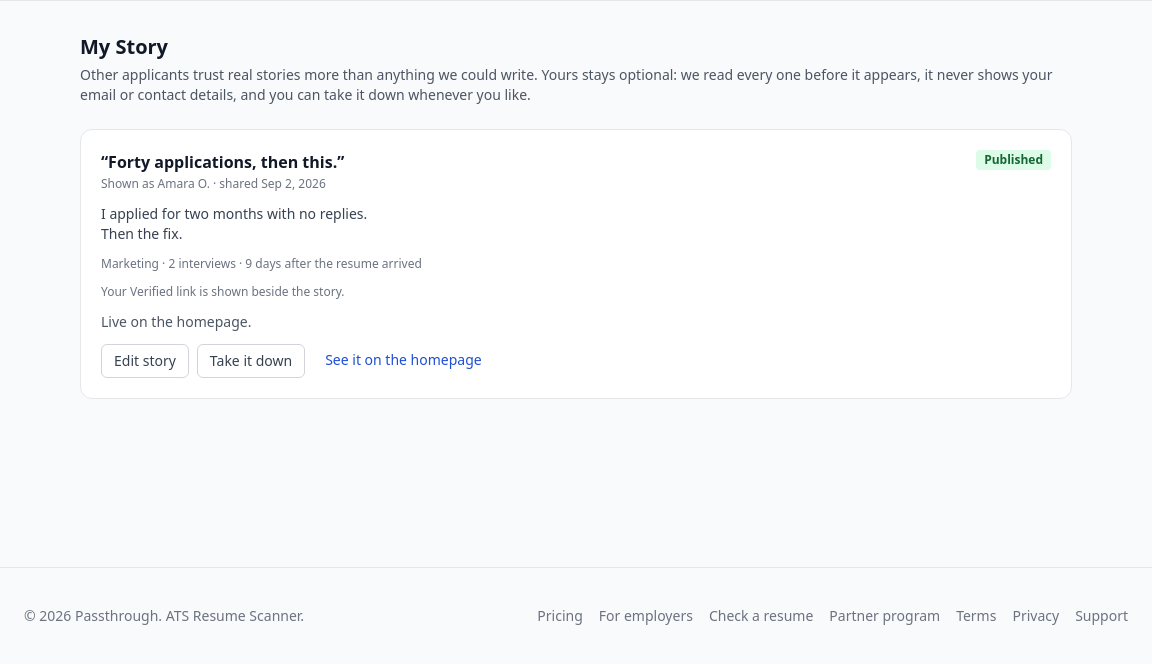
Test: My Story › editing starts from what was written, re-sends the interview details, and warns that a published story goes back to review
Click the button "Edit story": coordinates (145, 361) [101, 344, 189, 378]
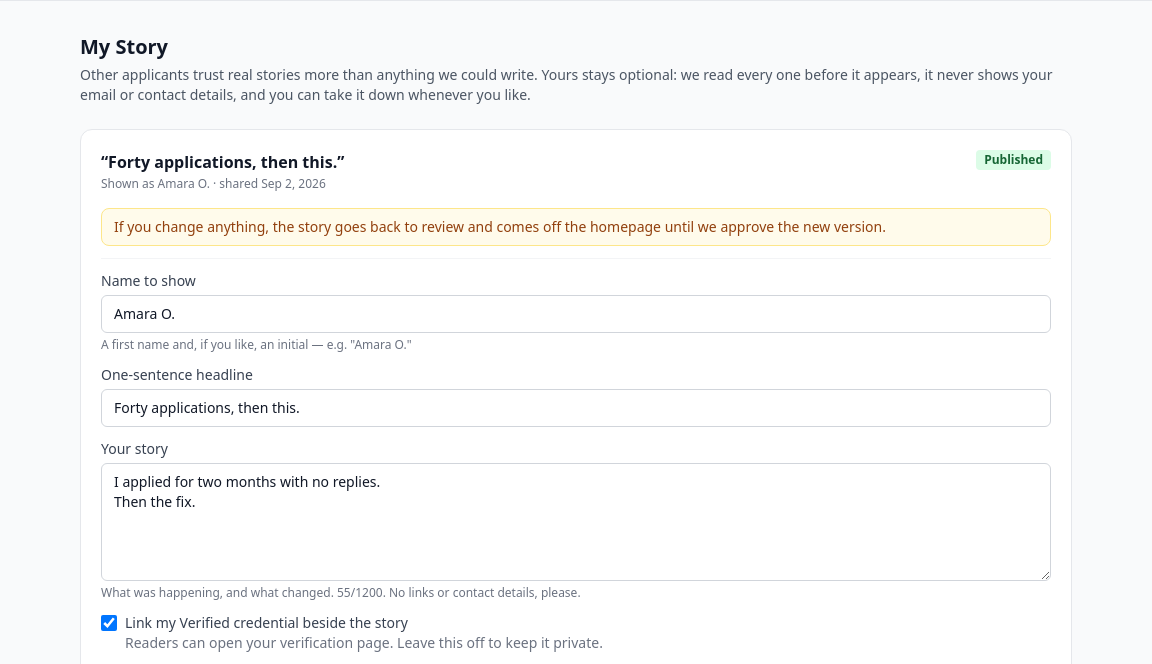
Expected: the text "goes back to review and comes off the homepage" is shown, [114, 217, 886, 236]
Expected: the field labelled "One-sentence headline" holds "Forty applications, then this."
Expected: the field labelled "Name to show" holds "Amara O.", [101, 295, 1051, 333]
Replace the text in the field labelled "One-sentence headline" with "Two months of silence, then three replies.": coordinates (576, 408) [101, 389, 1051, 427]
(page scrolled)
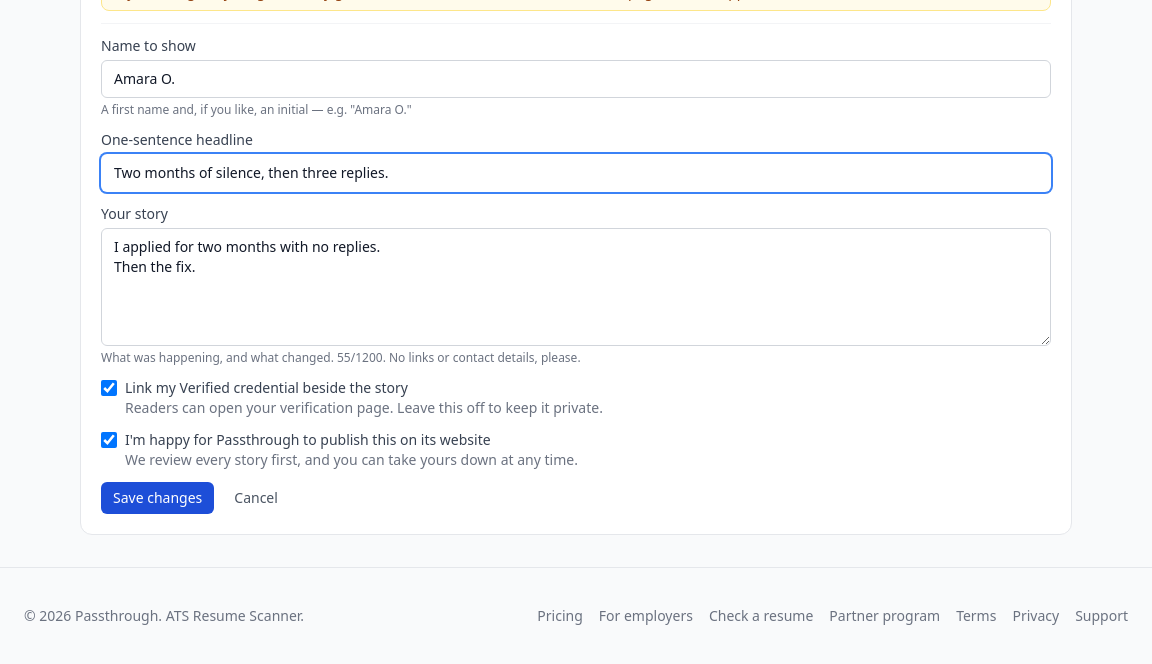
Click the button "Save changes": coordinates (158, 498) [101, 482, 214, 514]
(page scrolled)
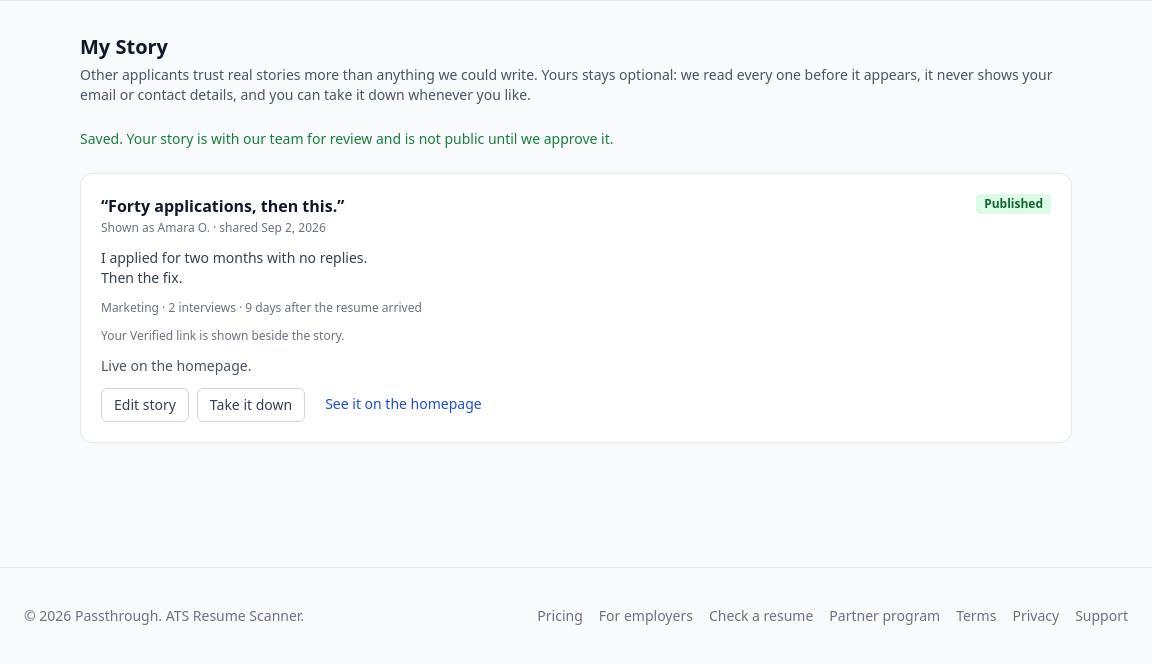
Expected: the text "is with our team for review" is shown, [80, 129, 614, 148]
